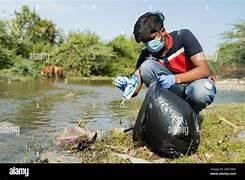Glove: (123, 75, 137, 98), (158, 75, 175, 87), (114, 76, 128, 90)
Mask: (144, 37, 163, 52)
